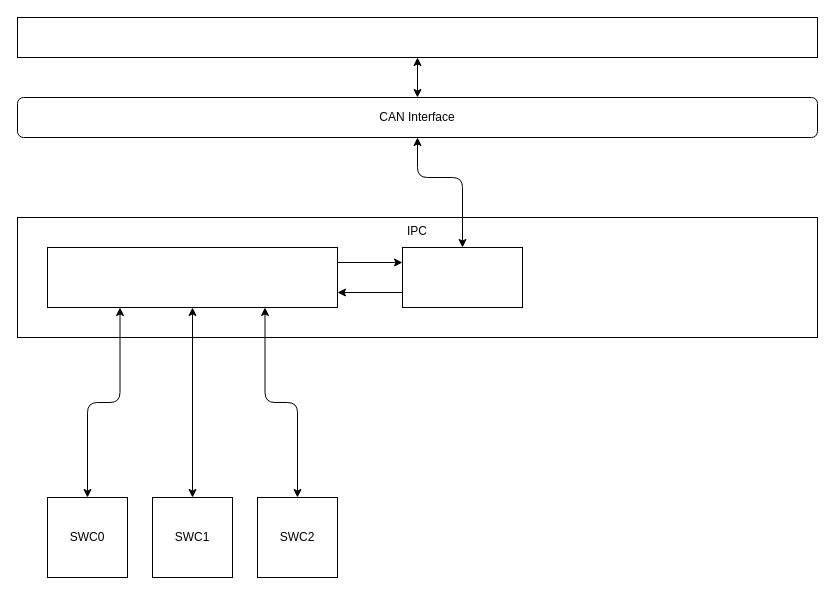
Some shapes in this 835 by 595 pixel diagram are drawn without their labels. The shapes that lost their labels are listed below. From the top down, each one's centre as x and y in pixels, then its label:
point (417, 37): CAN_BUS
point (192, 277): Variables
point (462, 277): CAN Frames
